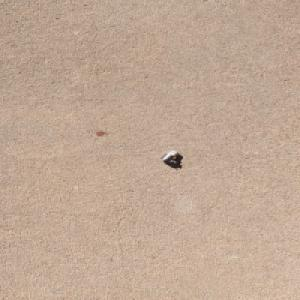MetalPart: (159, 150, 179, 164)
